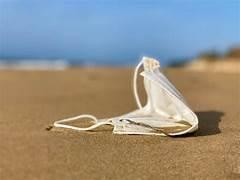Mask: (54, 57, 197, 135)
